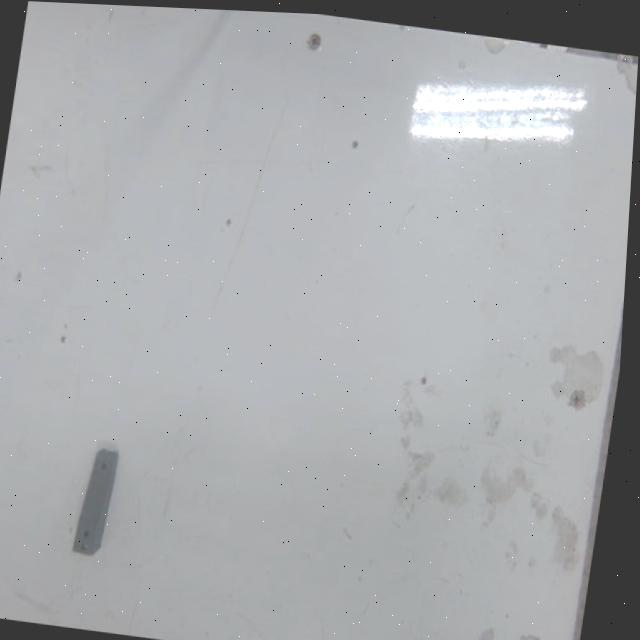grey: (65, 440, 121, 562)
head: (96, 455, 108, 472)
